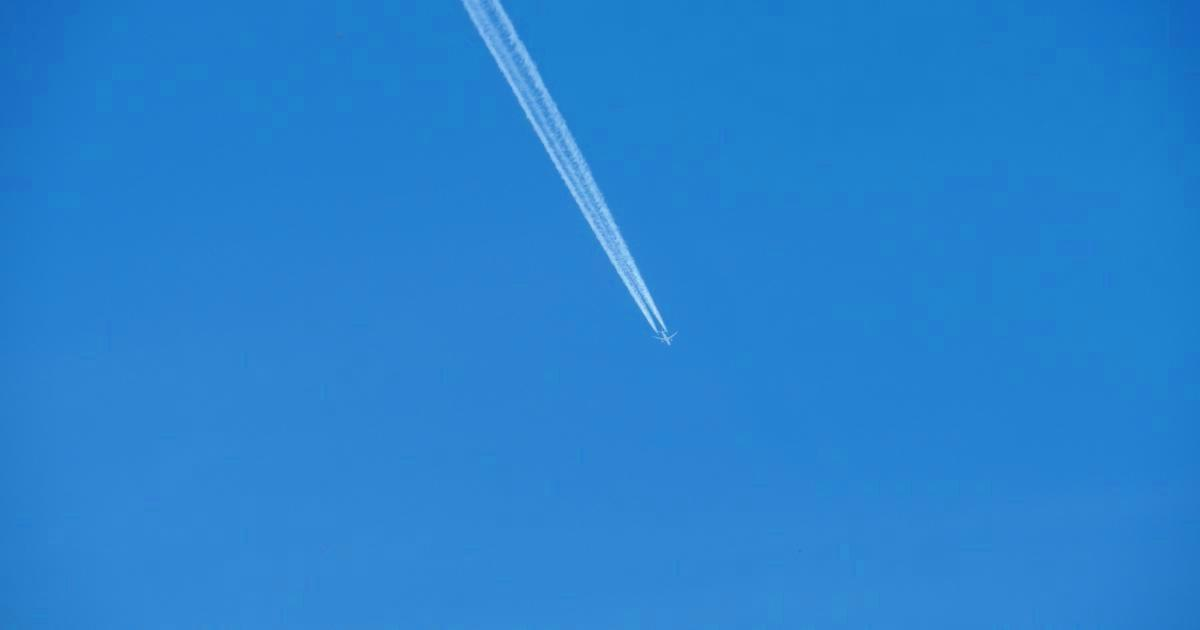Plane: (454, 20, 747, 354)
